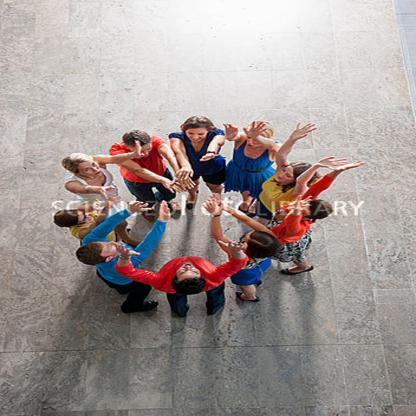face: (175, 264, 204, 283), (75, 162, 105, 179), (245, 130, 268, 150), (96, 243, 125, 258), (185, 127, 208, 143), (134, 142, 154, 160), (241, 231, 262, 248), (74, 211, 95, 227), (276, 168, 296, 183)
